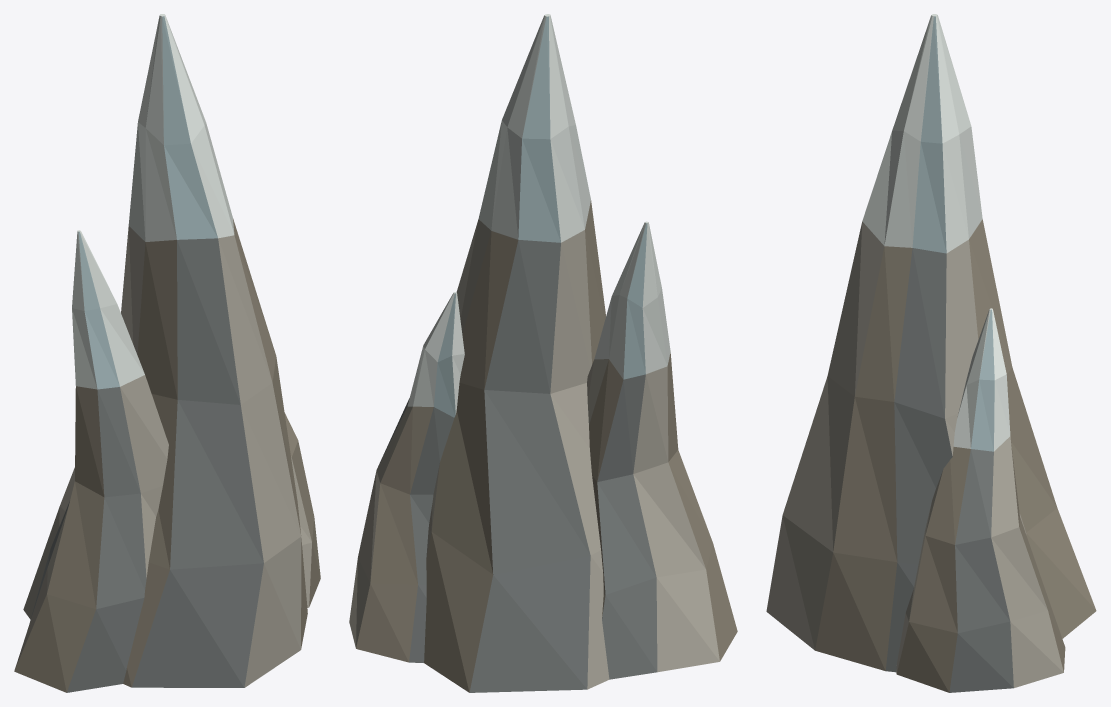
The model's file is Alpine_SnowSpire.fbx.
The picture shows the model from 3 angles, left to right: view 1: azimuth 30°, elevation 25°; view 2: azimuth 150°, elevation 25°; view 3: azimuth 270°, elevation 25°; orthographic projection. The views are drawn at different scales.
Visible parts, largest first — view 1: Alpine_SnowSpire; view 2: Alpine_SnowSpire; view 3: Alpine_SnowSpire.
Boxes of the visible parts, x1,y1,x2,y2 form: Alpine_SnowSpire: (14,14,320,692); Alpine_SnowSpire: (349,14,737,692); Alpine_SnowSpire: (766,14,1096,692).
Size of the model in its own units: 3.8 by 6.8 by 3.4.
